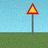sign: (26, 3, 39, 35)
